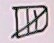kok: (3, 2, 54, 42)
